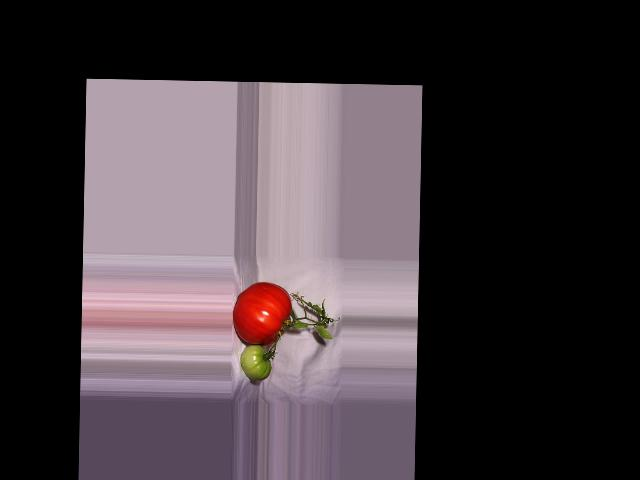tomato: (232, 281, 292, 346)
